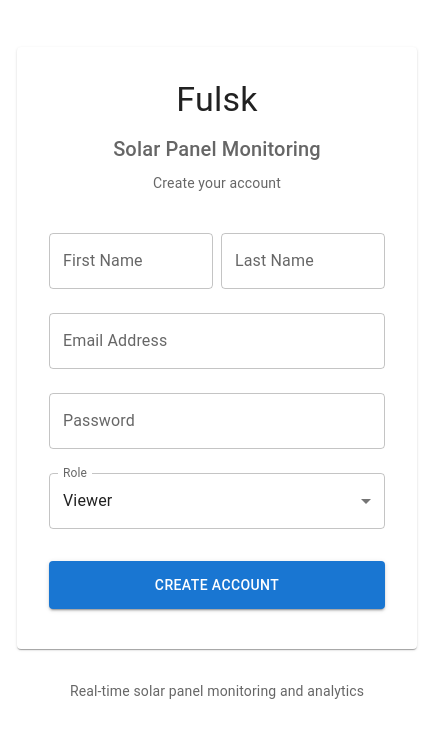
Test case: RegisterForm › shows validation error for weak password
Type "123" into the password field labelled "Password".
click(217, 421); type("123")  # box 49,393 -> 385,449
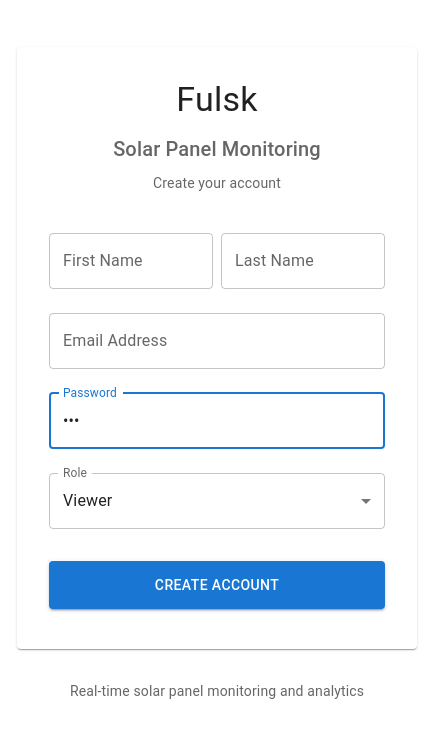
Click the button "Create Account".
click(217, 585)  # box 49,561 -> 385,609
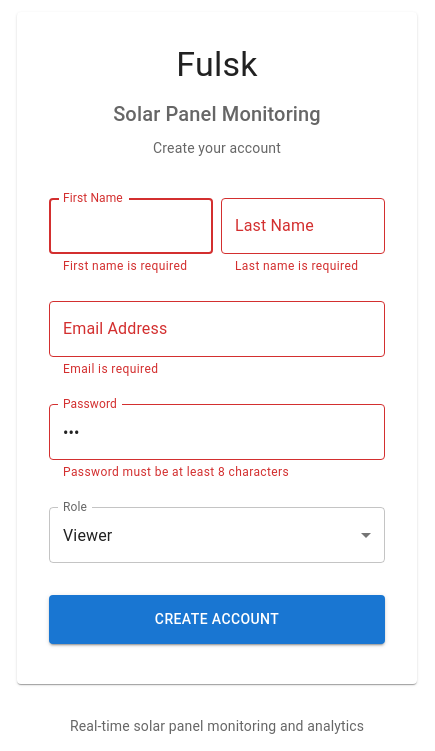
Now the text "Password must be at least 8 characters" is shown, box 63,465 -> 289,479
